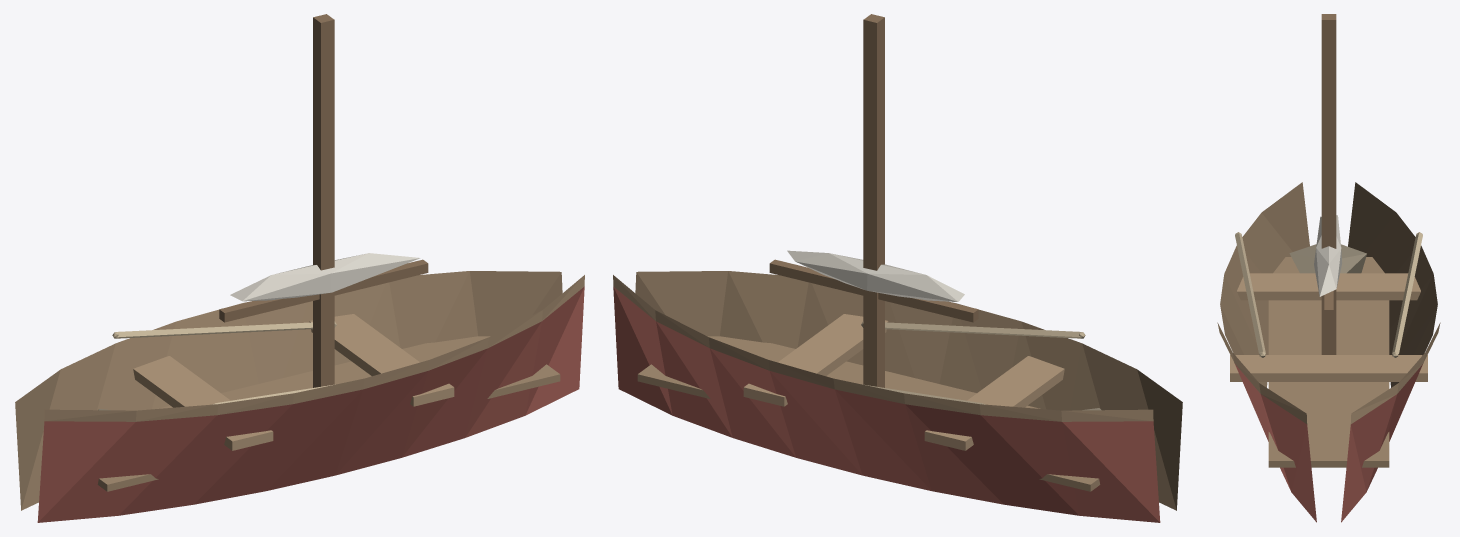
Rendered from boat1.glb.
The picture shows the model from 3 angles, left to right: view 1: azimuth 30°, elevation 25°; view 2: azimuth 150°, elevation 25°; view 3: azimuth 270°, elevation 25°; orthographic projection. The views are drawn at different scales.
Visible parts, largest first — view 1: boat1; view 2: boat1; view 3: boat1.
Boxes of the visible parts, box(x1,y1,x2,y2) form: boat1: box(15, 14, 584, 522); boat1: box(613, 14, 1182, 522); boat1: box(1217, 14, 1440, 522).
Size of the model in its own units: 4.8 by 3.6 by 1.94.
